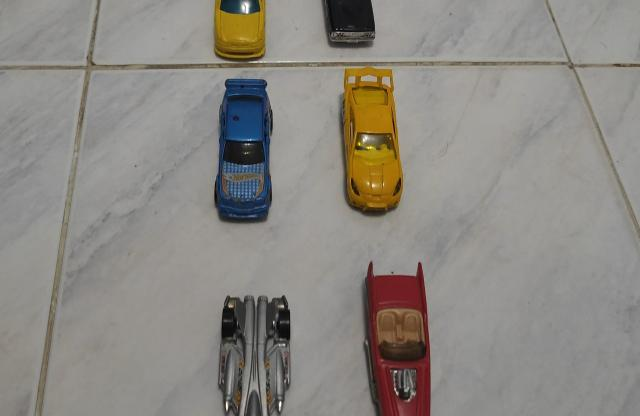01_FORD: (322, 0, 377, 50)
02_OZSOME: (213, 0, 268, 62)
03_V8: (364, 263, 432, 416)
04_MERZEDES: (214, 79, 273, 226)
05_DC121: (219, 295, 293, 416)
07_RHLTURBO: (340, 67, 405, 219)
